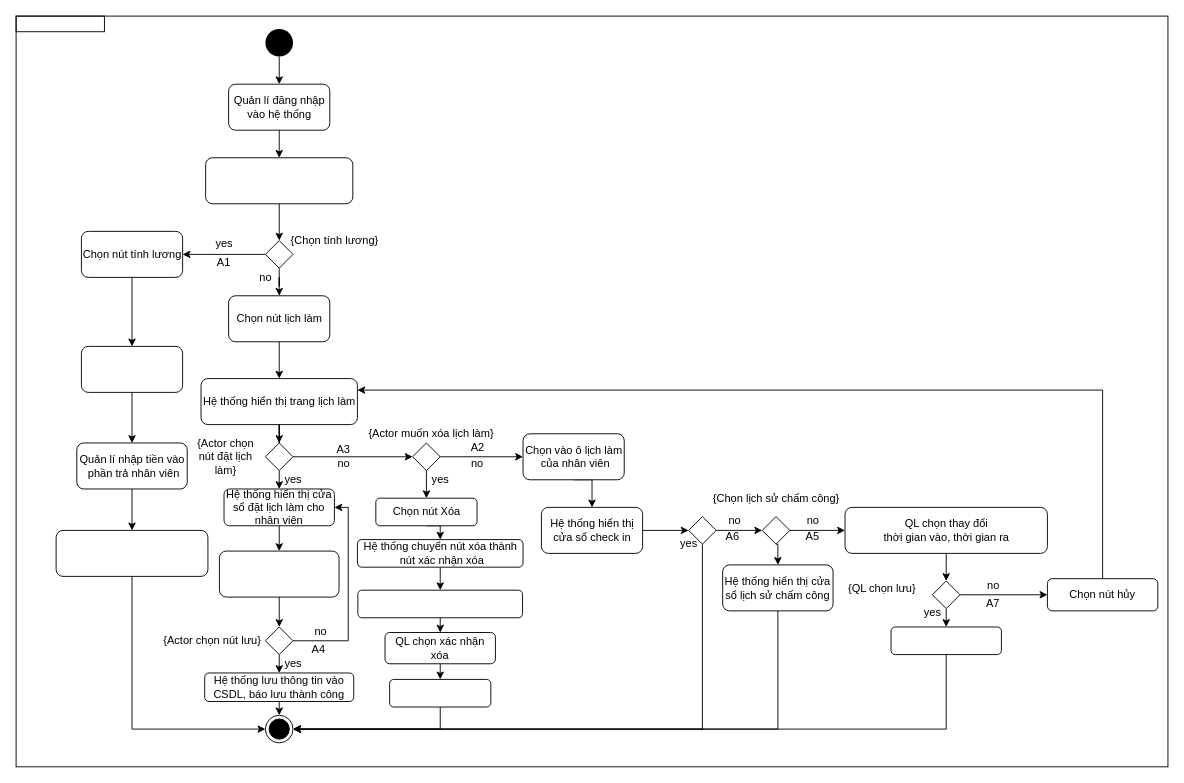
Image size: 1184x783. Some labels were removed from this diagram. The centre of each missing label's shape, as x and y in pixels:
"Activity Diagram" belongs at pixel 59 23.
"Hệ thống hiển thị ra trang tính lương" belongs at pixel 131 368.
"Hệ thống hiện các chức năng cho quản lí chọn" belongs at pixel 279 180.
"Hệ thống lưu vào CSDL" belongs at pixel 945 640.
"Hệ thống tính và hiển thị số tiền cần trả cho nhân viên" belongs at pixel 131 552.
"Hệ thống xóa các ô lịch làm" belongs at pixel 440 692.
"QL chọn các ô lịch làm cần xóa" belongs at pixel 440 603.
"Quản lí chọn lưu khi đã đặt lịch cho nhân viên" belongs at pixel 278 573.
